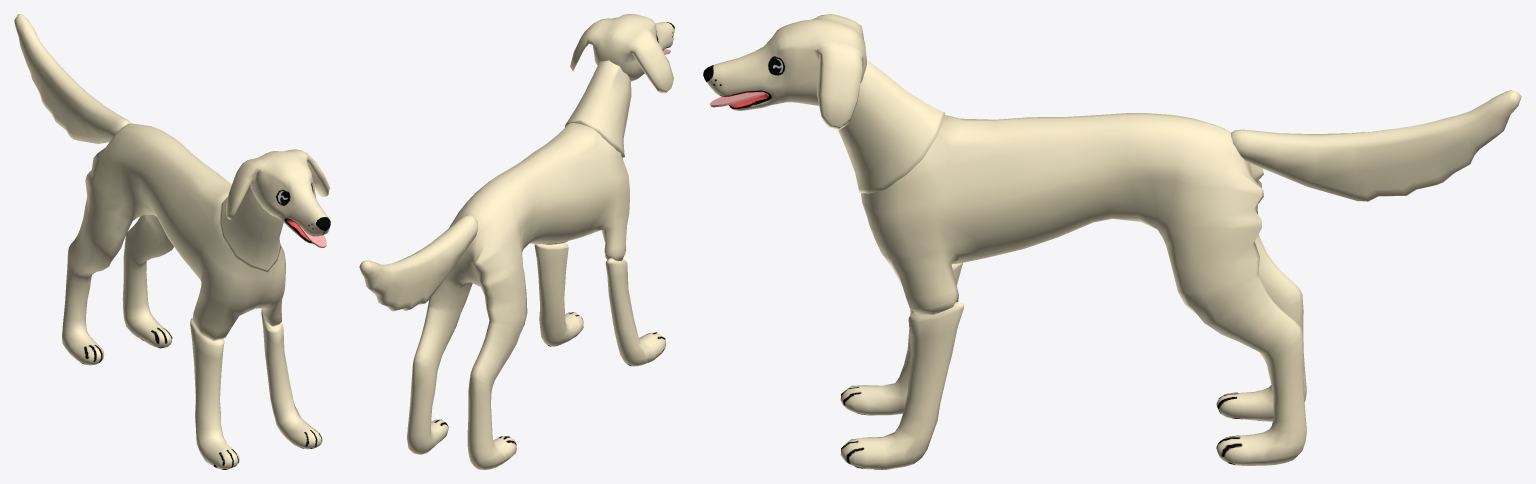
File: dog_parted.fbx
The picture shows the model from 3 angles, left to right: view 1: azimuth 30°, elevation 25°; view 2: azimuth 150°, elevation 25°; view 3: azimuth 270°, elevation 25°; orthographic projection. The views are drawn at different scales.
Parts seen in each view (by area): view 1: dogbody_retopo, doghead_retopo, dogtail_retopo, dolforeleg_right, dogneck_retopo, dolforeleg_left; view 2: dogbody_retopo, dogtail_retopo, doghead_retopo, dogneck_retopo, dolforeleg_left, dolforeleg_right; view 3: dogbody_retopo, dogtail_retopo, doghead_retopo, dogneck_retopo, dolforeleg_left, dolforeleg_right.
Part boxes in pixels (x1=…): dogbody_retopo: x1=62, y1=123, x2=285, y2=365; doghead_retopo: x1=225, y1=149, x2=330, y2=243; dogtail_retopo: x1=14, y1=14, x2=130, y2=143; dolforeleg_right: x1=190, y1=318, x2=239, y2=469; dogneck_retopo: x1=219, y1=184, x2=283, y2=272; dolforeleg_left: x1=261, y1=309, x2=322, y2=449; dogbody_retopo: x1=407, y1=123, x2=629, y2=469; dogtail_retopo: x1=359, y1=214, x2=477, y2=311; doghead_retopo: x1=570, y1=14, x2=674, y2=93; dogneck_retopo: x1=565, y1=60, x2=631, y2=157; dolforeleg_left: x1=534, y1=243, x2=583, y2=346; dolforeleg_right: x1=605, y1=258, x2=665, y2=366; dogbody_retopo: x1=861, y1=113, x2=1306, y2=465; dogtail_retopo: x1=1231, y1=90, x2=1521, y2=201; doghead_retopo: x1=703, y1=14, x2=866, y2=129; dogneck_retopo: x1=838, y1=61, x2=944, y2=193; dolforeleg_left: x1=840, y1=302, x2=964, y2=469; dolforeleg_right: x1=840, y1=262, x2=962, y2=415.
Bounding box in the file's own units: 146 × 410 × 730.
6 materials, 5 textured.
